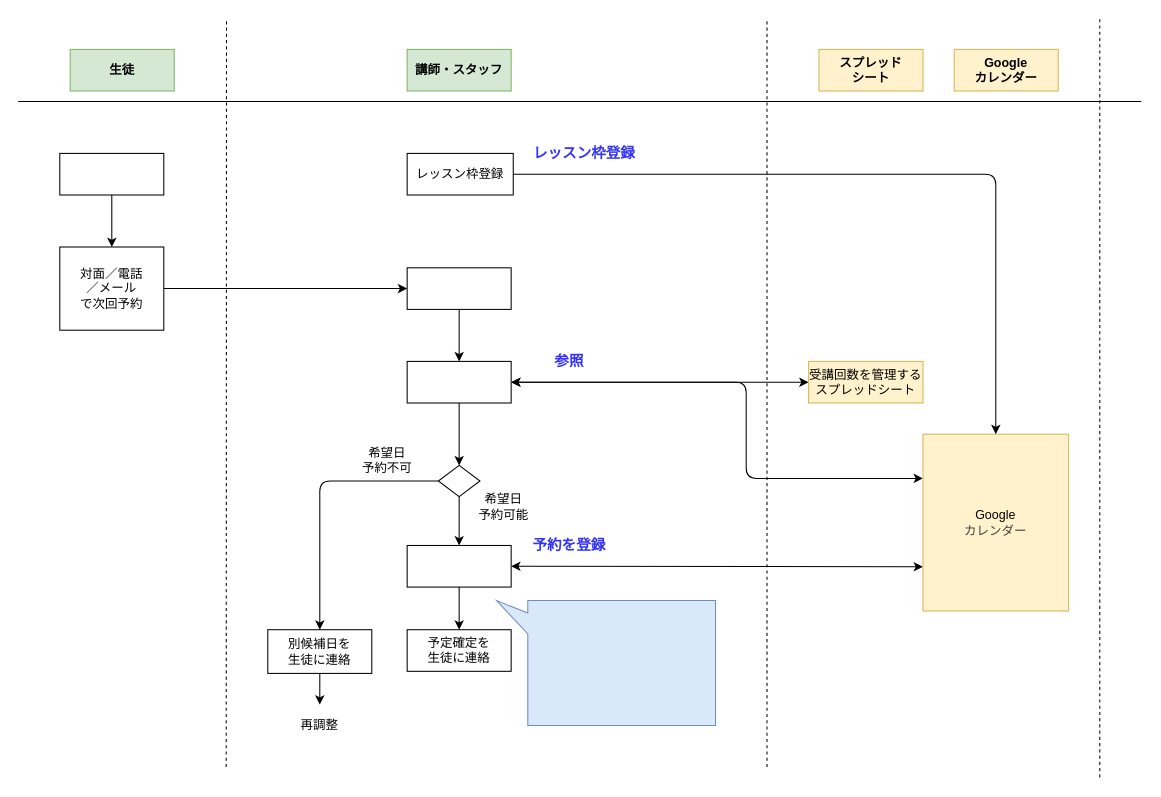
This 1161x797 diagram has some shape labels left out. Here are the shapes that lost their labels. From the top down, the centre of each, then its label:
pixel 111 173: レッスン受講
pixel 458 288: 講師／スタッフ が受付
pixel 458 381: 受講回数と 予定を確認
pixel 458 565: 予約登録
pixel 606 662: 当月に受講した回数が ・3回以内 ⇒当月の空き枠に予約 ・４回受講済み ⇒来月以降の 空き枠に 予約
